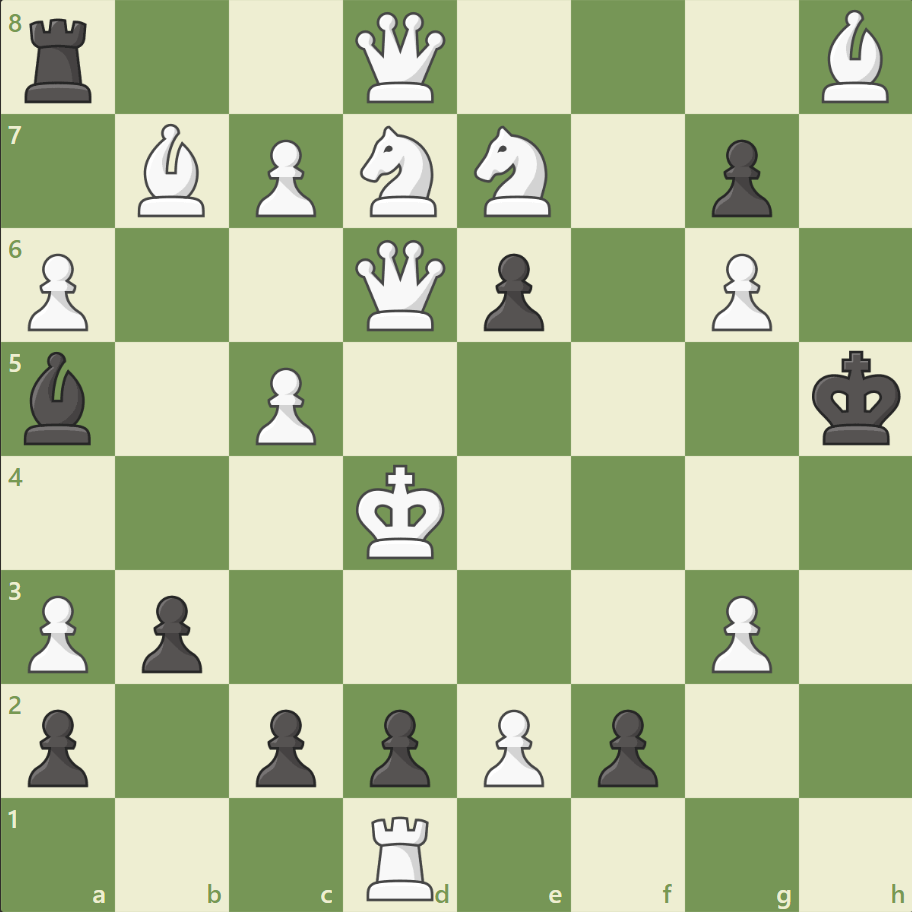B: (812, 6, 896, 109), (131, 120, 215, 222)
K: (351, 458, 451, 566)
N: (351, 121, 449, 223), (465, 121, 562, 223)
P: (247, 132, 322, 223), (20, 246, 95, 337), (701, 246, 776, 337), (247, 359, 322, 450), (20, 586, 95, 677), (701, 586, 776, 677), (474, 700, 549, 791)
Q: (351, 9, 450, 108), (351, 236, 450, 335)
R: (360, 806, 442, 904)
b: (17, 347, 101, 449)
k: (806, 344, 906, 452)
p: (701, 132, 776, 223), (474, 246, 549, 337), (133, 586, 208, 677), (20, 700, 95, 791), (247, 700, 322, 791), (361, 700, 435, 791), (588, 700, 662, 791)
r: (19, 12, 102, 109)
